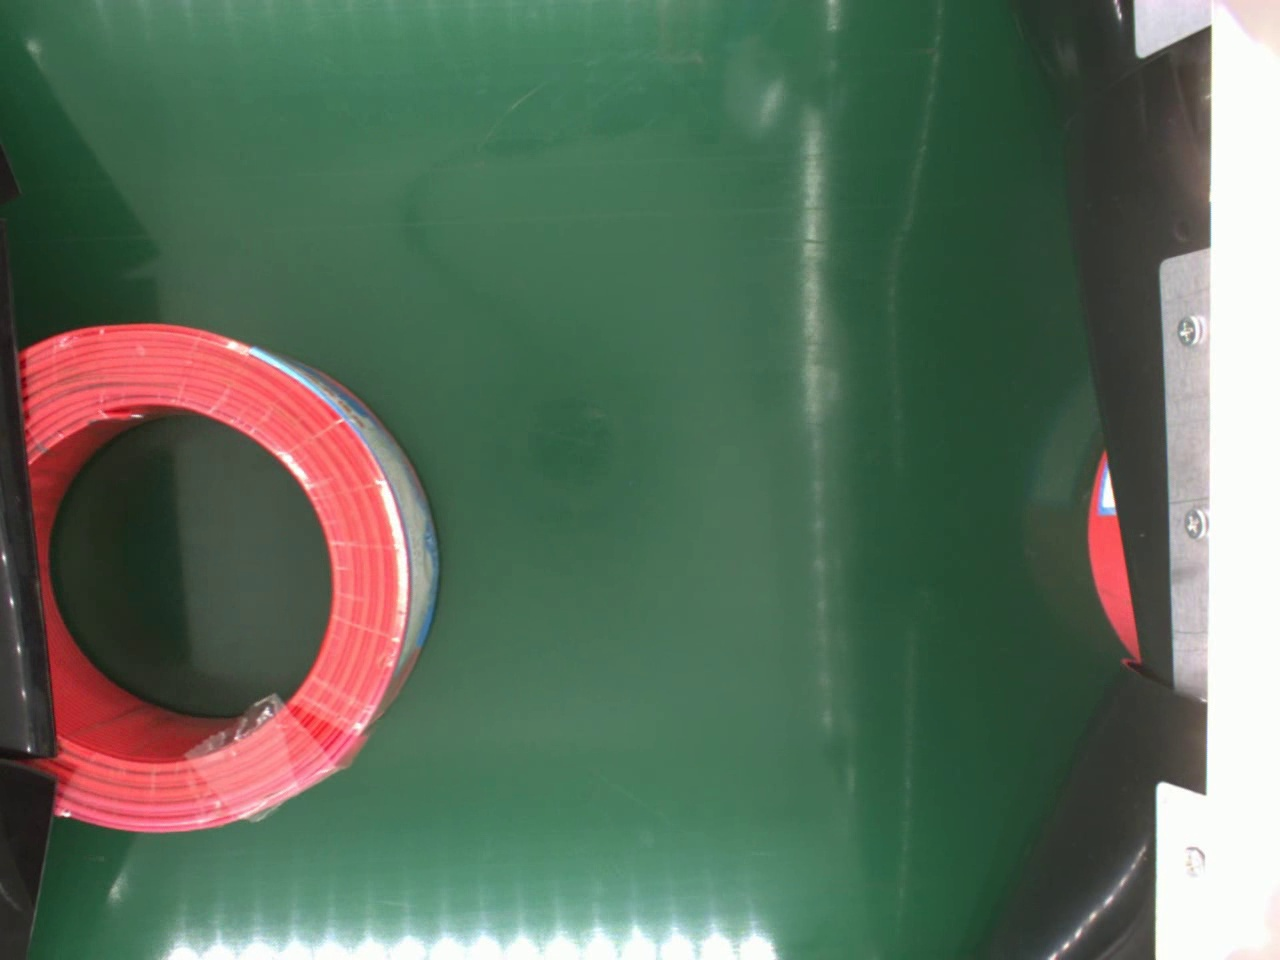red: (17, 321, 440, 834)
